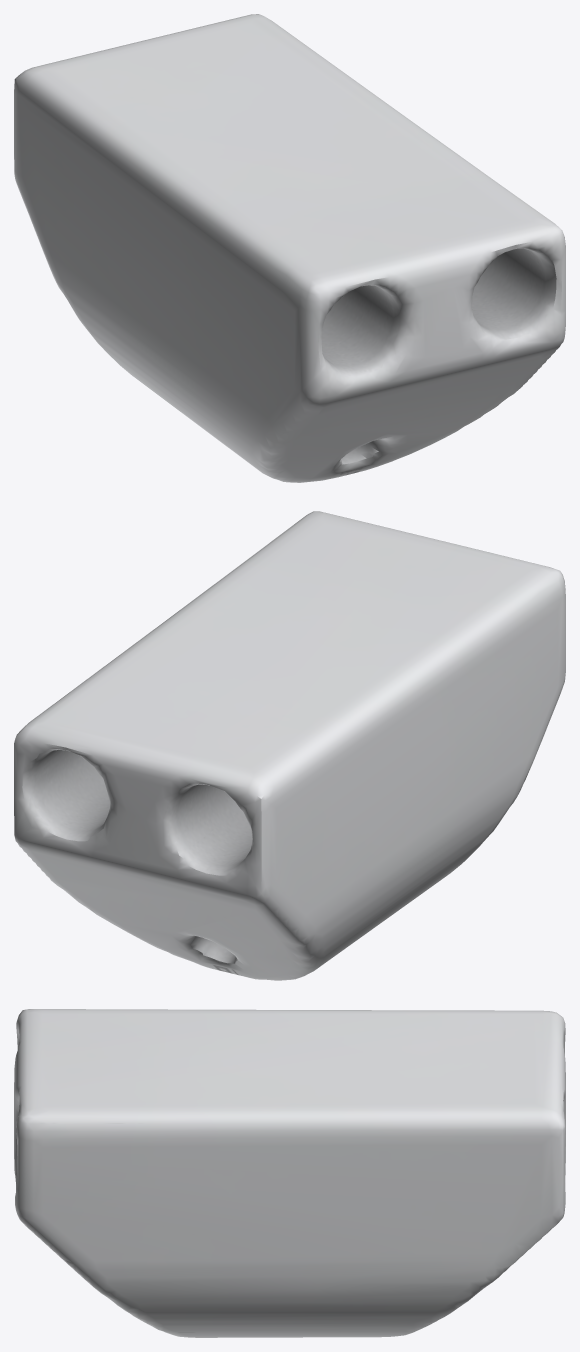
The model's file is right_finger2_middle.obj.
3 renders of one model, top to bottom at view 1: azimuth 30°, elevation 25°; view 2: azimuth 150°, elevation 25°; view 3: azimuth 270°, elevation 25°, orthographic. The views are drawn at different scales.
Parts seen in each view (by area): view 1: right_finger2_middle; view 2: right_finger2_middle; view 3: right_finger2_middle.
Part boxes in pixels (x1=…): right_finger2_middle: x1=14, y1=14, x2=565, y2=482; right_finger2_middle: x1=14, y1=511, x2=565, y2=980; right_finger2_middle: x1=14, y1=1009, x2=565, y2=1337.
Size of the model in its own units: 0.0119 by 0.0125 by 0.0238.
1 material, 1 textured.
